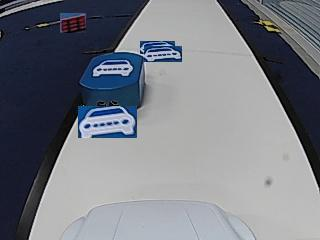safety: (93, 58, 135, 77)
